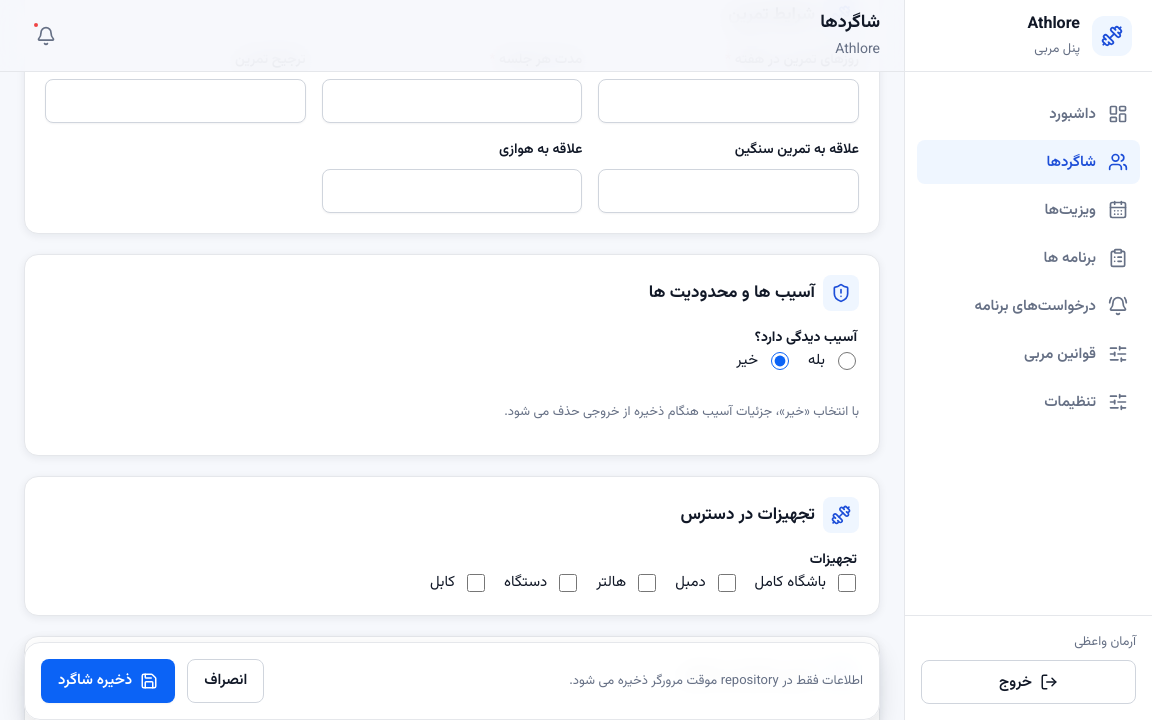
Test: StudentFormPage › handles conditional injury fields
(page scrolled)
Expected: the field labelled "نوع آسیب" is not shown
Click the radio button labelled "بله" at (847, 361), box [838,352,856,370]
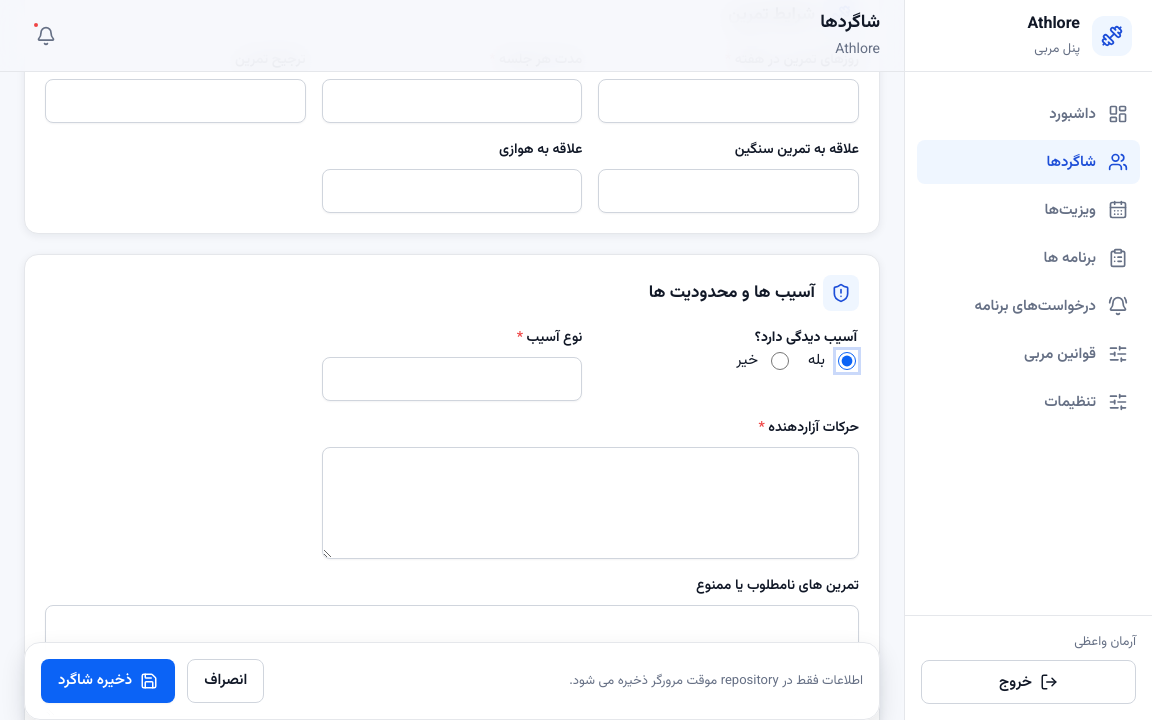
Now the field labelled "نوع آسیب *" is shown, box [322,357,582,401]
Click the radio button labelled "خیر" at (780, 361), box [771,352,789,370]
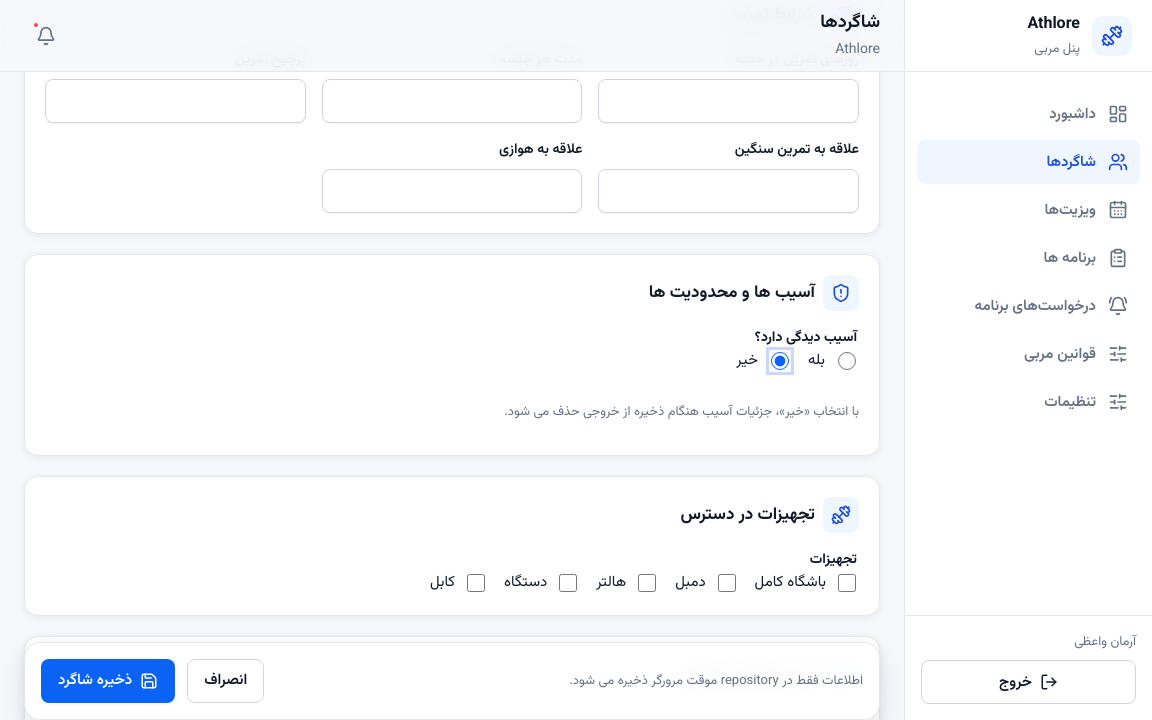
Now the label labelled "نوع آسیب" is gone
